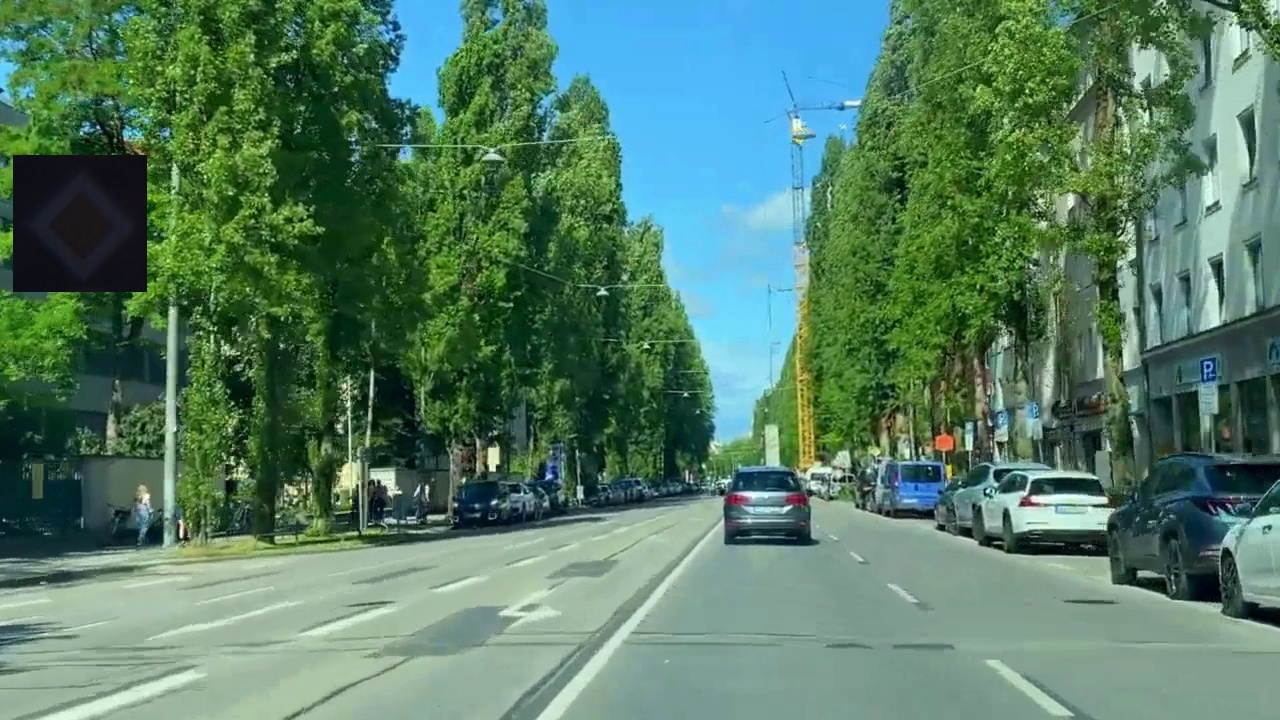Priority road: (13, 155, 147, 292)
